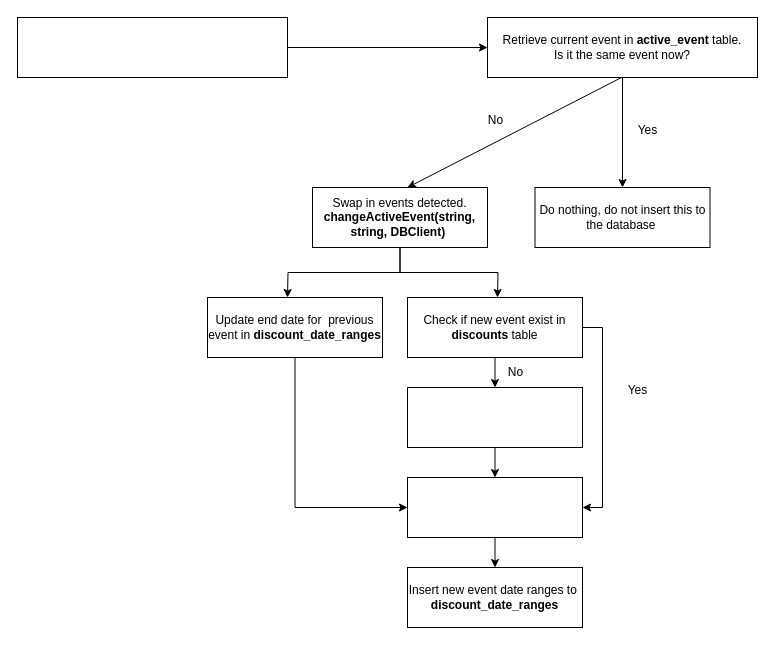
This 775x645 diagram has some shape labels left out. Each missing label, with the centre of its shape:
"Detection of new event or discount banner" belongs at (152,47).
"Insert event into discounts table" belongs at (494,417).
"Insert new event into active_event table" belongs at (494,507).
